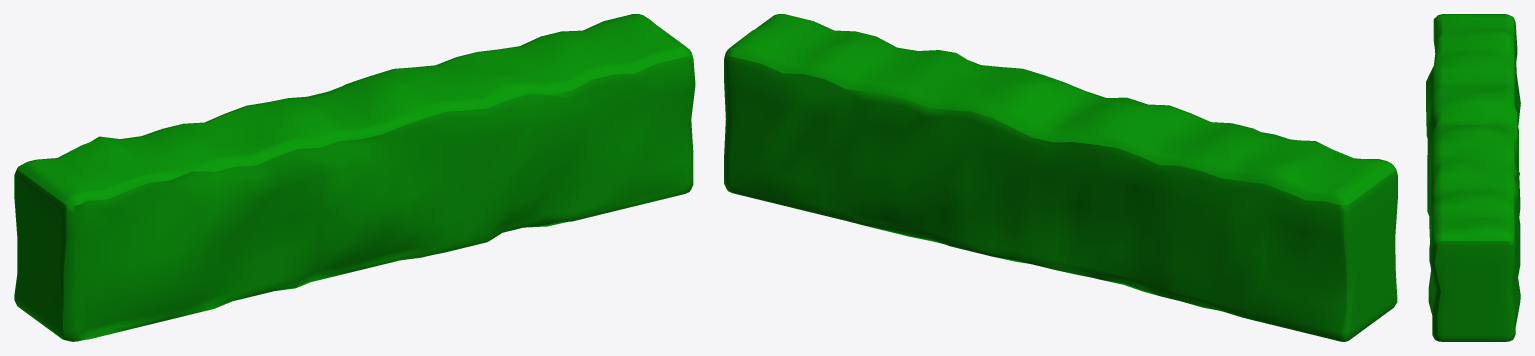
Rendered from Hedge.fbx.
3 views of the same model, side by side, from view 1: azimuth 30°, elevation 25°; view 2: azimuth 150°, elevation 25°; view 3: azimuth 270°, elevation 25° (orthographic). The views are drawn at different scales.
Visible parts, largest first — view 1: Hedge; view 2: Hedge; view 3: Hedge.
Boxes of the visible parts, <box> form: Hedge: <box>14,14,695,341</box>; Hedge: <box>724,14,1397,341</box>; Hedge: <box>1426,14,1520,341</box>.
Bounding box in the file's own units: 12.73 × 3.01 × 2.25.
